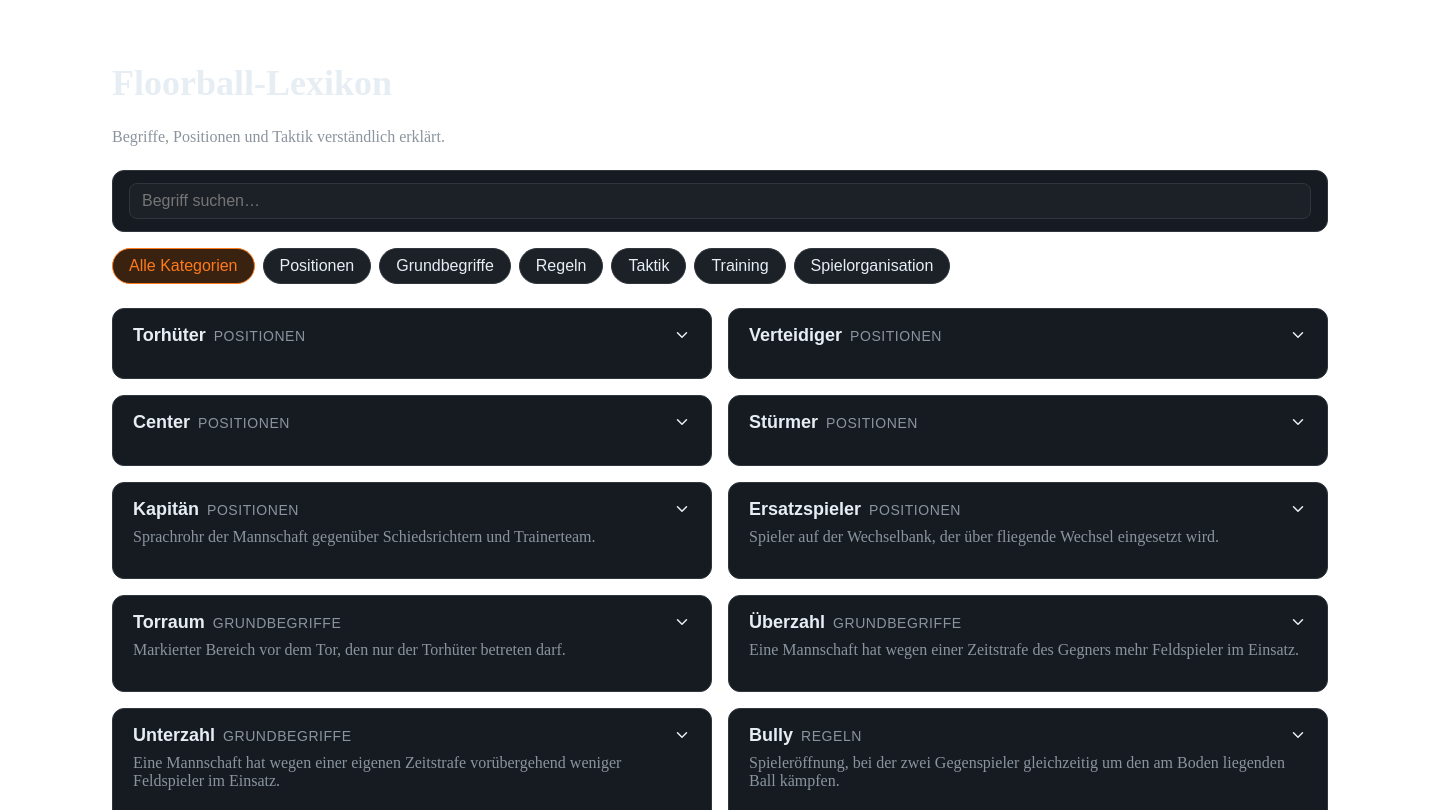
Scenario: GlossaryPage › filtert per Kategorie auf "Positionen"
Click the button "Positionen".
click(317, 266)  # box left=262, top=248, right=371, bottom=284
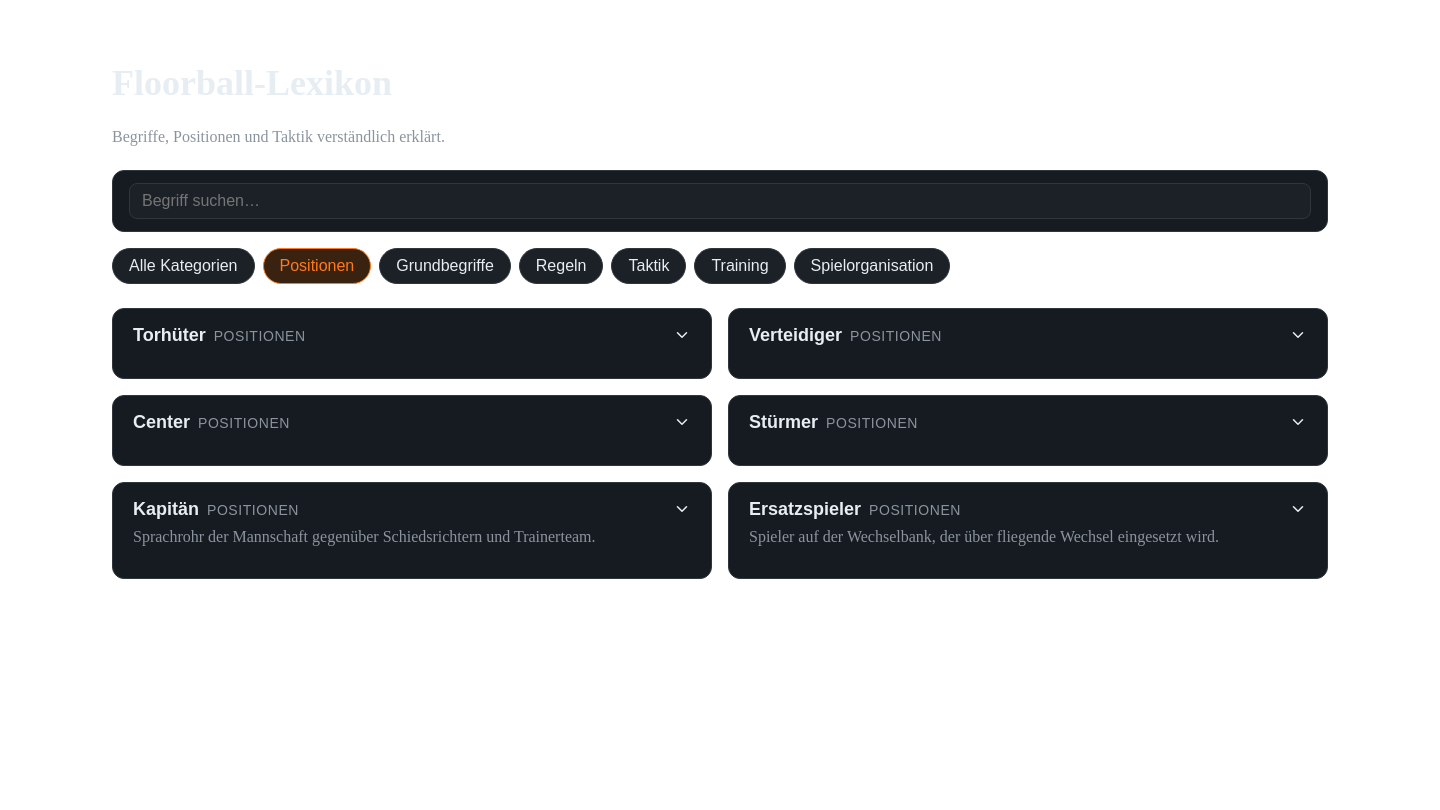
Expected: the button "Torhüter" is shown, left=133, top=325, right=691, bottom=346
Expected: the button "Bully" is gone
